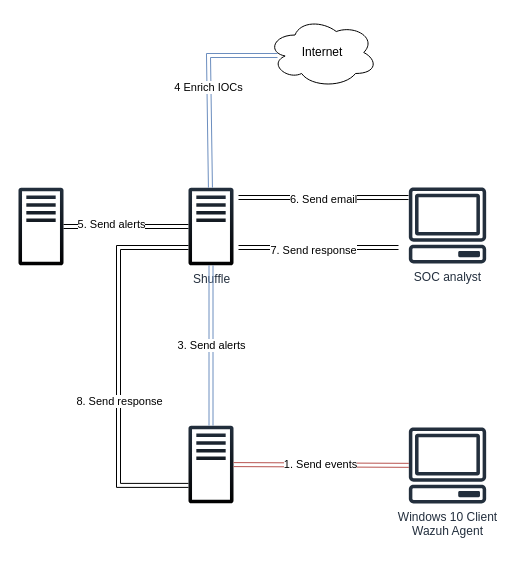
The diagram is 514 pixels wide and 571 high, and some of its shapes have lost their labels. The box of each missing label's shape, as (x1, y1, x2, y2) in pixels:
The Hive: (18, 187, 63, 265)
Wazuh Manager: (188, 425, 233, 503)
